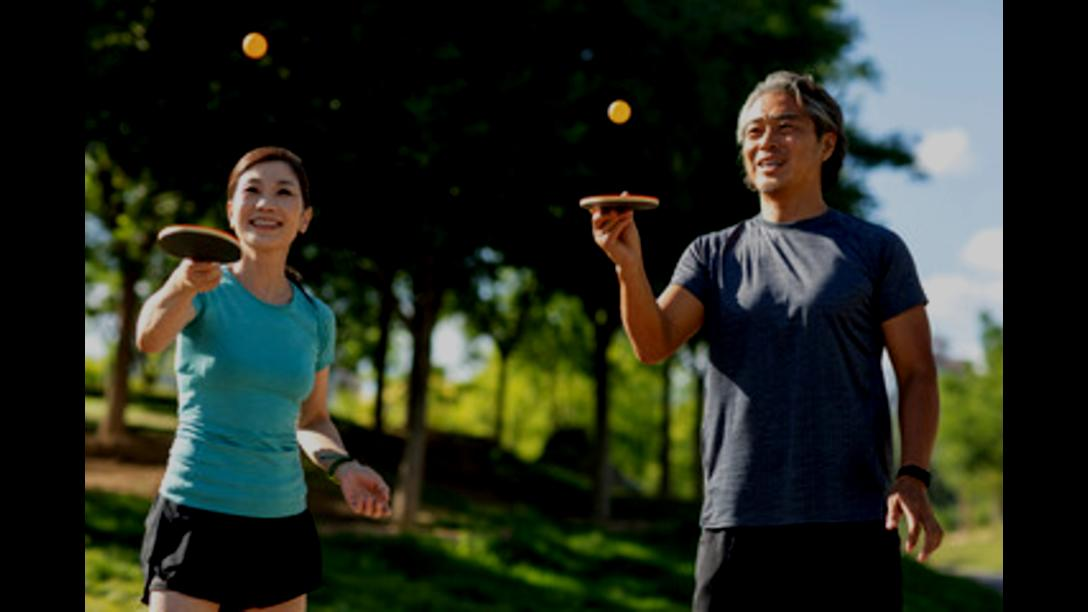Table-Tennis-Ball: (244, 32, 266, 56), (608, 100, 630, 122)
